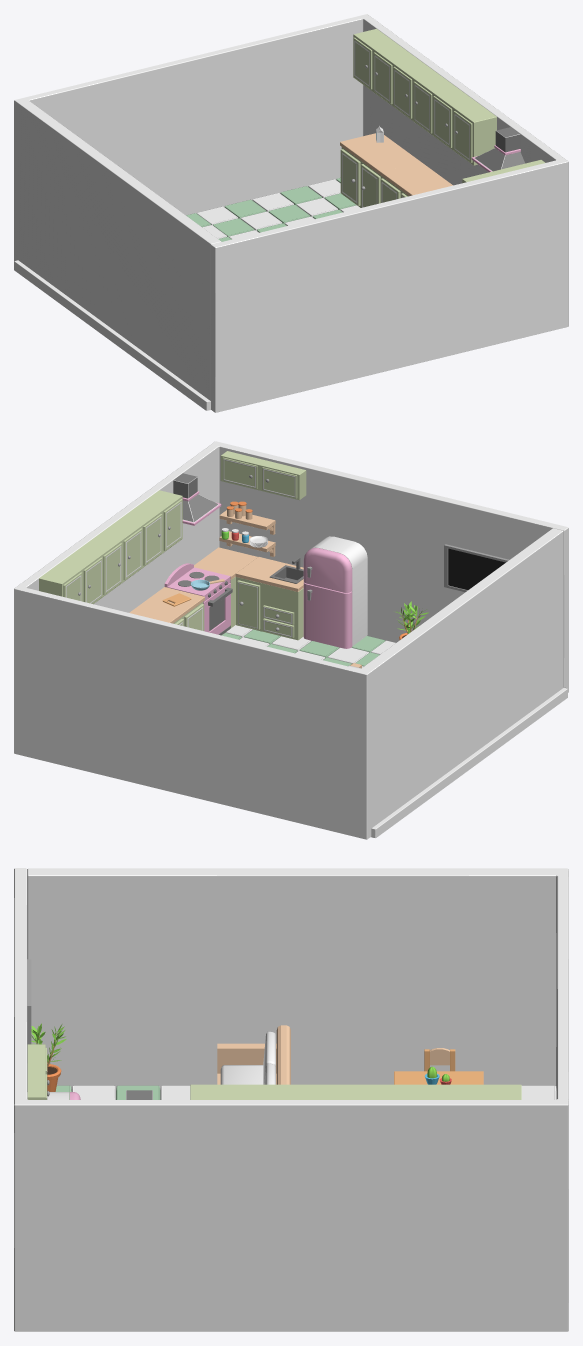
Rendered from KitchenV1.fbx.
3 views of the same model, one above another, from view 1: azimuth 30°, elevation 25°; view 2: azimuth 150°, elevation 25°; view 3: azimuth 270°, elevation 25° (orthographic). The views are drawn at different scales.
Visible parts, largest first — view 1: Wall, Floor tile.001, Counter.002, Cupboard.002, Cupboard.001, Cupboard, Floor, Counter.001, Hood; view 2: Wall, Fridge, Counter with sink, Wall shelf, Cupboard.002, Cupboard, Floor, Cupboard.001, Floor tile, Stove, Cube, Counter (+4 smaller); view 3: Wall, Sofa, Cupboard.001, Cupboard.002, Cupboard, Floor tile.003, Wall shelf, Table, Plant, Chair.001.
Part boxes in pixels (x1,y1,x2,y2): Wall: (14, 14, 568, 412); Floor tile.001: (197, 178, 359, 239); Counter.002: (340, 133, 419, 207); Cupboard.002: (433, 87, 496, 165); Cupboard.001: (353, 28, 416, 106); Cupboard: (393, 58, 456, 135); Floor: (14, 260, 210, 410); Counter.001: (379, 161, 452, 202); Hood: (471, 127, 525, 172); Wall: (14, 441, 568, 839); Fridge: (303, 536, 367, 648); Counter with sink: (235, 557, 303, 640); Wall shelf: (220, 451, 306, 500); Cupboard.002: (119, 490, 182, 567); Cupboard: (79, 519, 142, 597); Floor: (371, 687, 567, 837); Cupboard.001: (39, 549, 102, 604); Floor tile: (221, 625, 385, 666); Stove: (164, 563, 232, 635); Cube: (444, 544, 509, 592); Counter: (129, 587, 204, 630); Wall: (14, 868, 568, 1331); Sofa: (217, 1025, 290, 1084); Cupboard.001: (410, 1084, 521, 1099); Cupboard.002: (190, 1084, 300, 1099); Cupboard: (301, 1084, 410, 1099); Floor tile.003: (55, 1085, 190, 1099); Wall shelf: (27, 1044, 49, 1099); Table: (394, 1071, 483, 1084); Plant: (31, 1023, 66, 1091); Chair.001: (424, 1048, 455, 1071).
Size of the model in its own units: 1540 by 681 by 1505.
